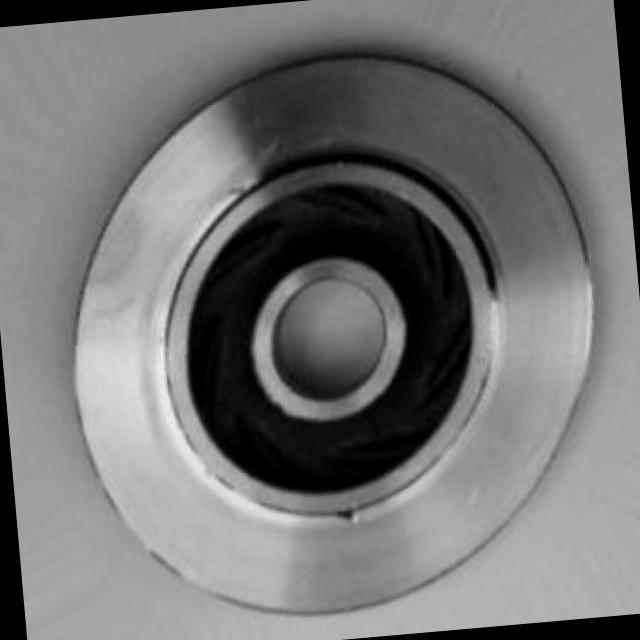Defect: (333, 504, 374, 535)
